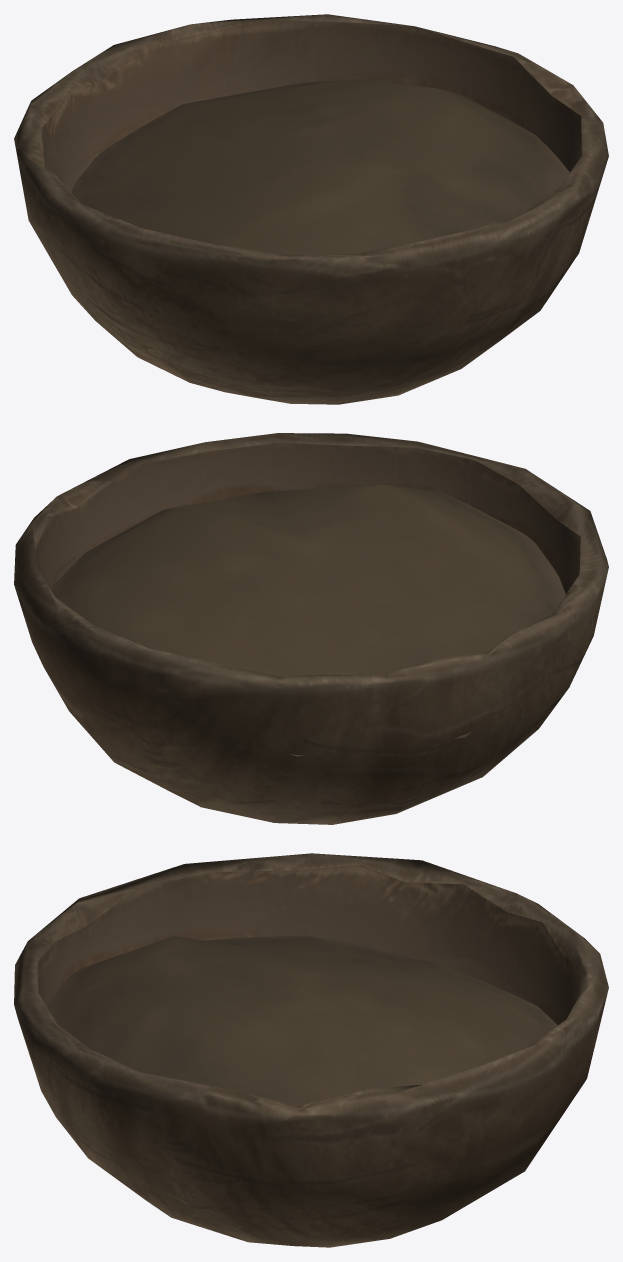
Rendered from SM_Bowl_02.fbx.
3 views of the same model, one above another, from view 1: azimuth 30°, elevation 25°; view 2: azimuth 150°, elevation 25°; view 3: azimuth 270°, elevation 25° (orthographic).
Parts seen in each view (by area): view 1: SM_Bowl_03; view 2: SM_Bowl_03; view 3: SM_Bowl_03.
Part boxes in pixels (box(x1,y1,x2,y2)): SM_Bowl_03: box(14, 14, 608, 404); SM_Bowl_03: box(14, 433, 608, 824); SM_Bowl_03: box(14, 853, 608, 1247).
Bounding box in the file's own units: 50.79 × 21.65 × 50.77.
Materials: 1 (1 with a texture image).
